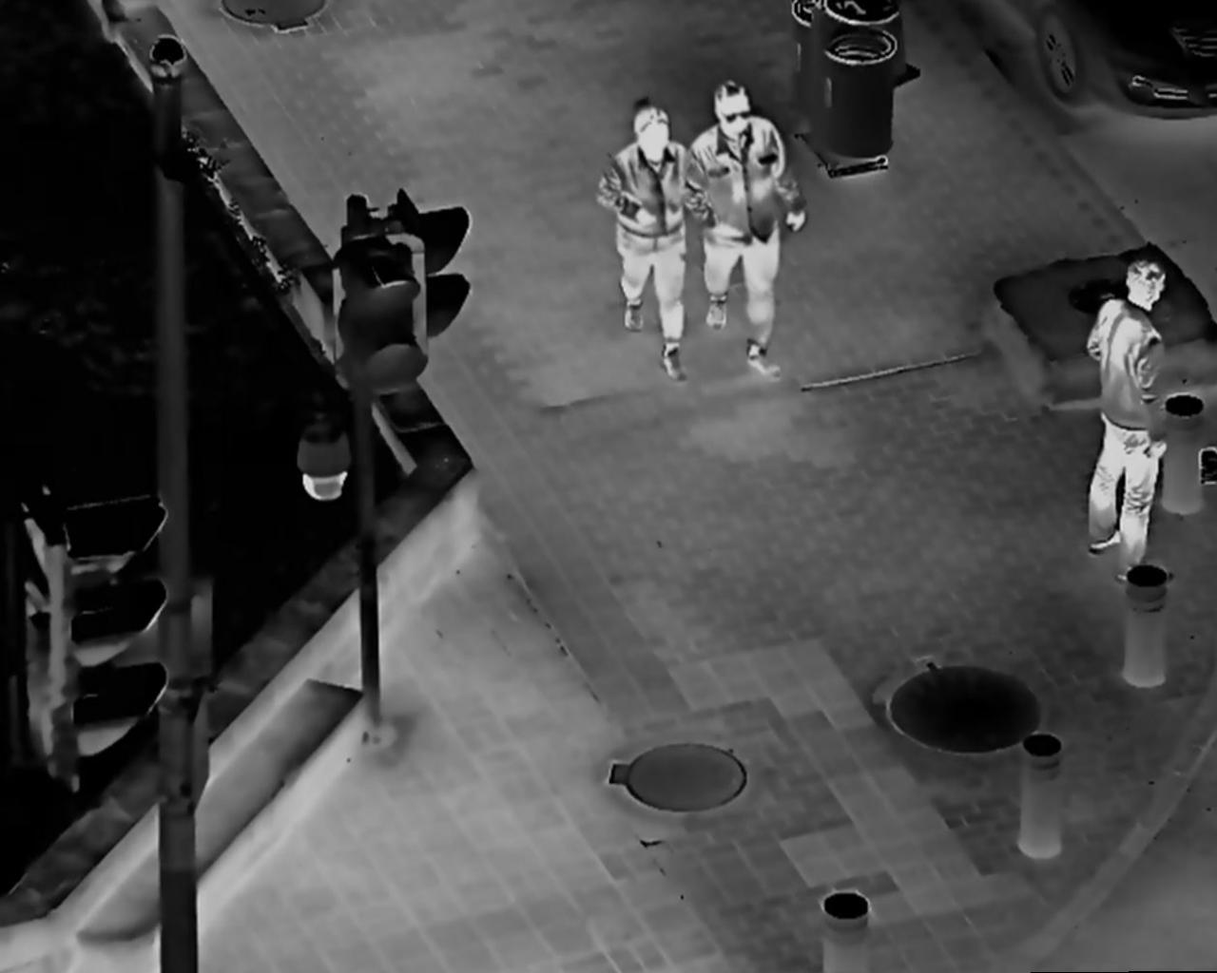person: (685, 71, 811, 384), (592, 93, 711, 387), (1081, 255, 1178, 593)
